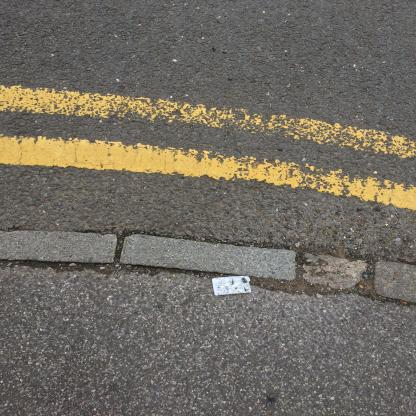trash: (210, 274, 256, 298)
